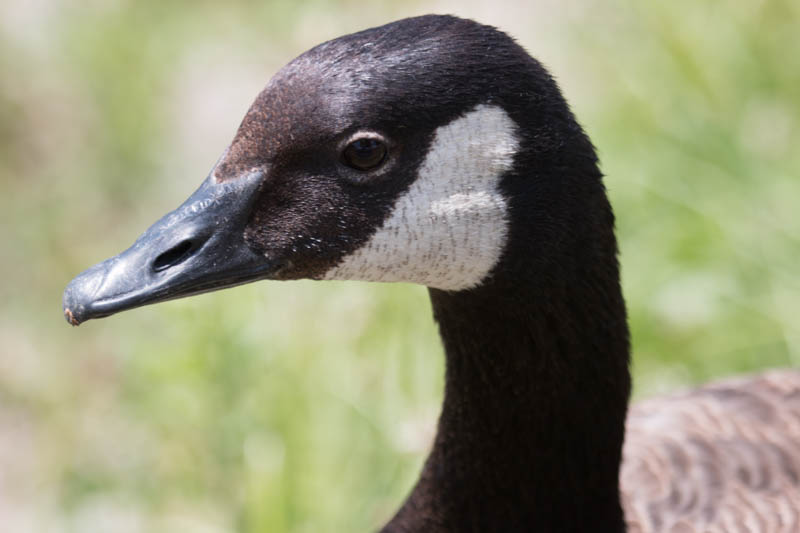goose-head: (63, 16, 614, 325)
